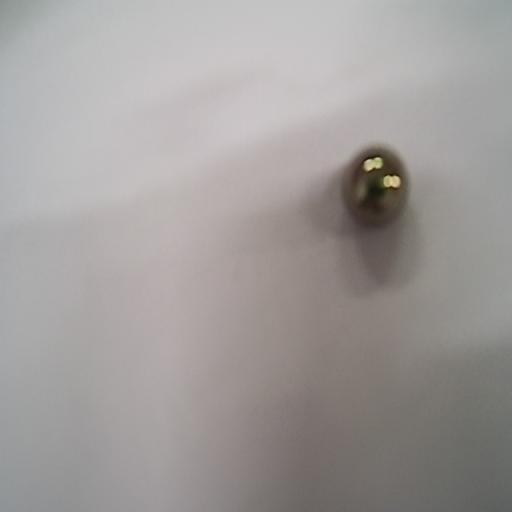steel-ball: (330, 132, 417, 244)
